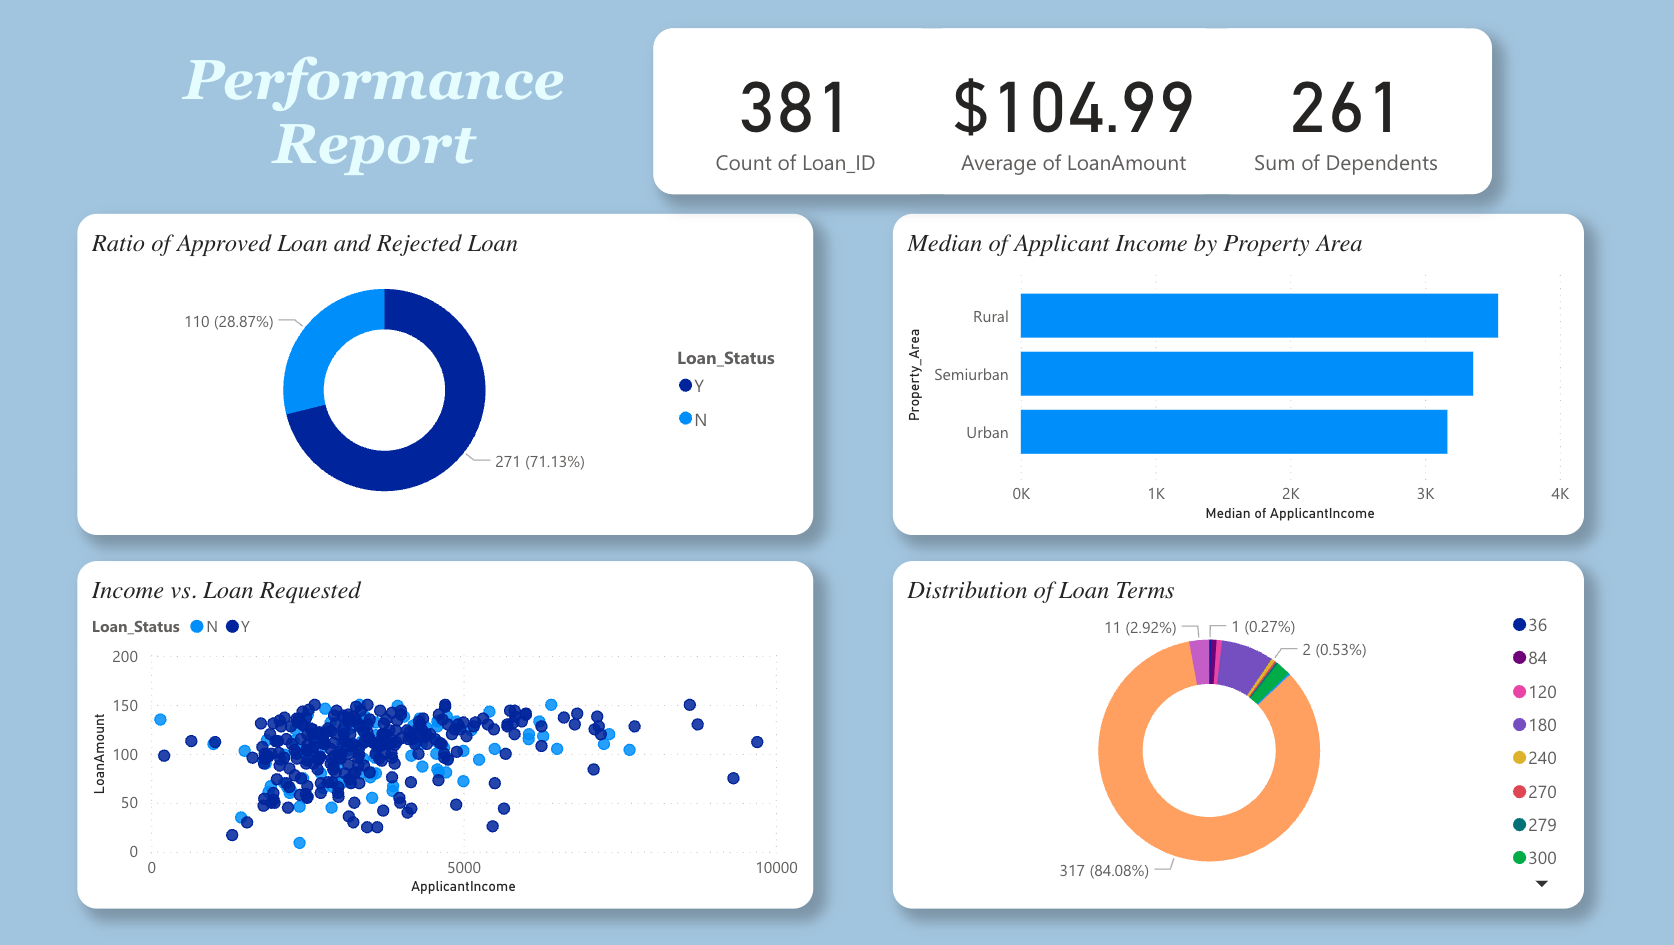

This screenshot's page, from the dashboard's own definition file:
{"tool":"powerbi","page":{"name":"Page 1","canvas":[1280,720],"ordinal":0},"visuals":[{"type":"scatterChart","title":"Income vs. Loan Requested","fields":{"X":["Sheet1.ApplicantIncome"],"Y":["Sheet1.LoanAmount"],"Series":["Sheet1.Loan_Status"]},"box":[63,428.7,558.6,263.8],"z":0},{"type":"donutChart","title":"Ratio of Approved Loan and Rejected Loan","fields":{"Category":["Sheet1.Loan_Status"],"Y":["CountNonNull(Sheet1.Loan_Status)"]},"box":[63,164.9,558.6,243.8],"z":1000},{"type":"clusteredBarChart","title":"Median of Applicant Income by Property Area","fields":{"Category":["Sheet1.Property_Area"],"Y":["Median(Sheet1.ApplicantIncome)"]},"box":[682.5,164.9,524.6,243.8],"z":3000},{"type":"donutChart","title":"Distribution of Loan Terms","fields":{"Series":["Sheet1.Loan_Amount_Term"],"Y":["CountNonNull(Sheet1.Property_Area)"]},"box":[682.5,428.7,524.6,263.8],"z":4000},{"type":"textbox","box":[133.9,0,308.8,149.9],"z":7000},{"type":"stackedAreaChart","fields":{"Y":["CountNonNull(Sheet1.Education)"]},"box":[500.6,24,636.5,125.9],"z":8000},{"type":"card","fields":{"Values":["CountNonNull(Sheet1.Loan_ID)"]},"box":[500.6,24,215.8,125.9],"z":8001},{"type":"card","fields":{"Values":["Avg(Sheet1.LoanAmount)"]},"box":[707.4,24,224.8,125.9],"z":8002},{"type":"card","fields":{"Values":["Sum(Sheet1.Dependents)"]},"box":[924.3,24,204.8,125.9],"z":8003}]}

Visuals, with their boxes in screenshot pixels (x1, y1, x2, y2), scaled from the page's 1280x720 canvas onto the 1674x945 screenshot:
"Income vs. Loan Requested" scatterChart: 82 563 813 909
"Ratio of Approved Loan and Rejected Loan" donutChart: 82 216 813 536
"Median of Applicant Income by Property Area" clusteredBarChart: 893 216 1579 536
"Distribution of Loan Terms" donutChart: 893 563 1579 909
textbox: 175 0 579 197
stackedAreaChart - CountNonNull(Sheet1.Education): 655 32 1487 197
card - CountNonNull(Sheet1.Loan_ID): 655 32 937 197
card - Avg(Sheet1.LoanAmount): 925 32 1219 197
card - Sum(Sheet1.Dependents): 1209 32 1477 197
